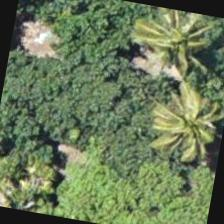Kelapa_Sawit: (125, 3, 223, 95), (144, 77, 223, 179)
